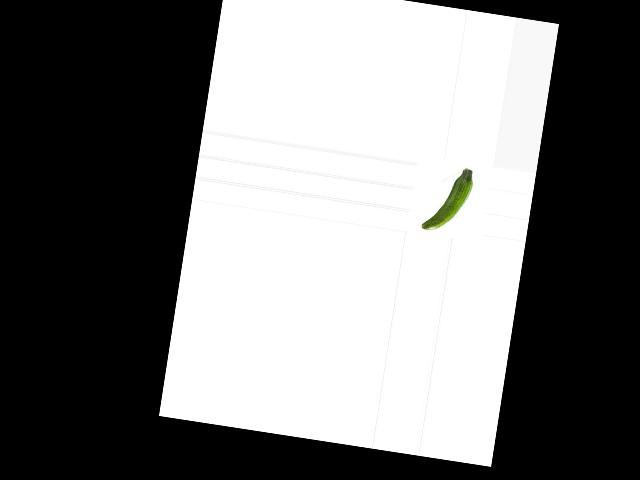cucumber: (420, 162, 475, 235)
